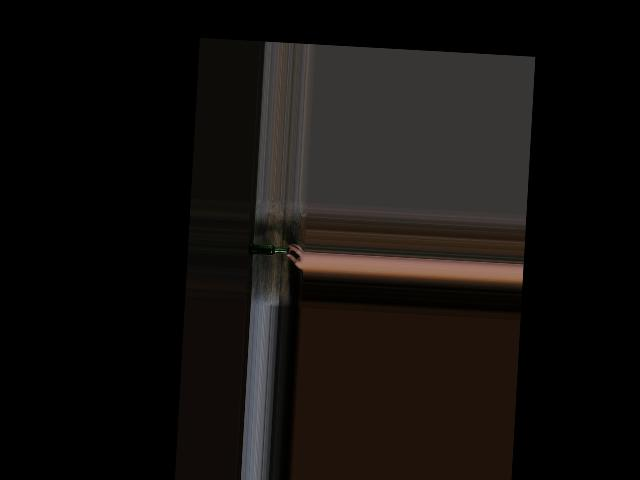beer: (248, 243, 290, 256)
